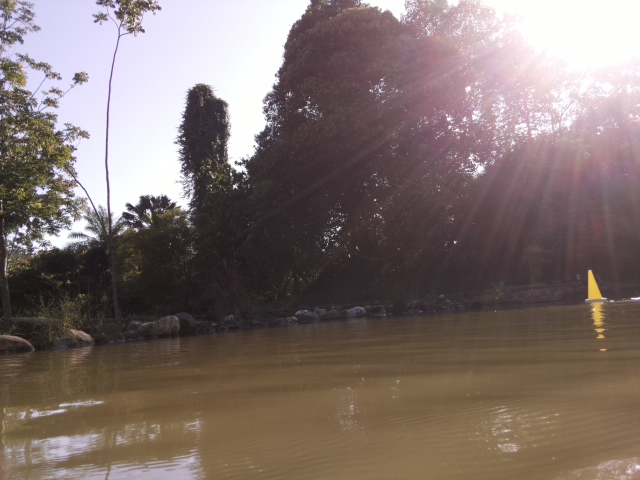checkpoint: (582, 265, 608, 304)
